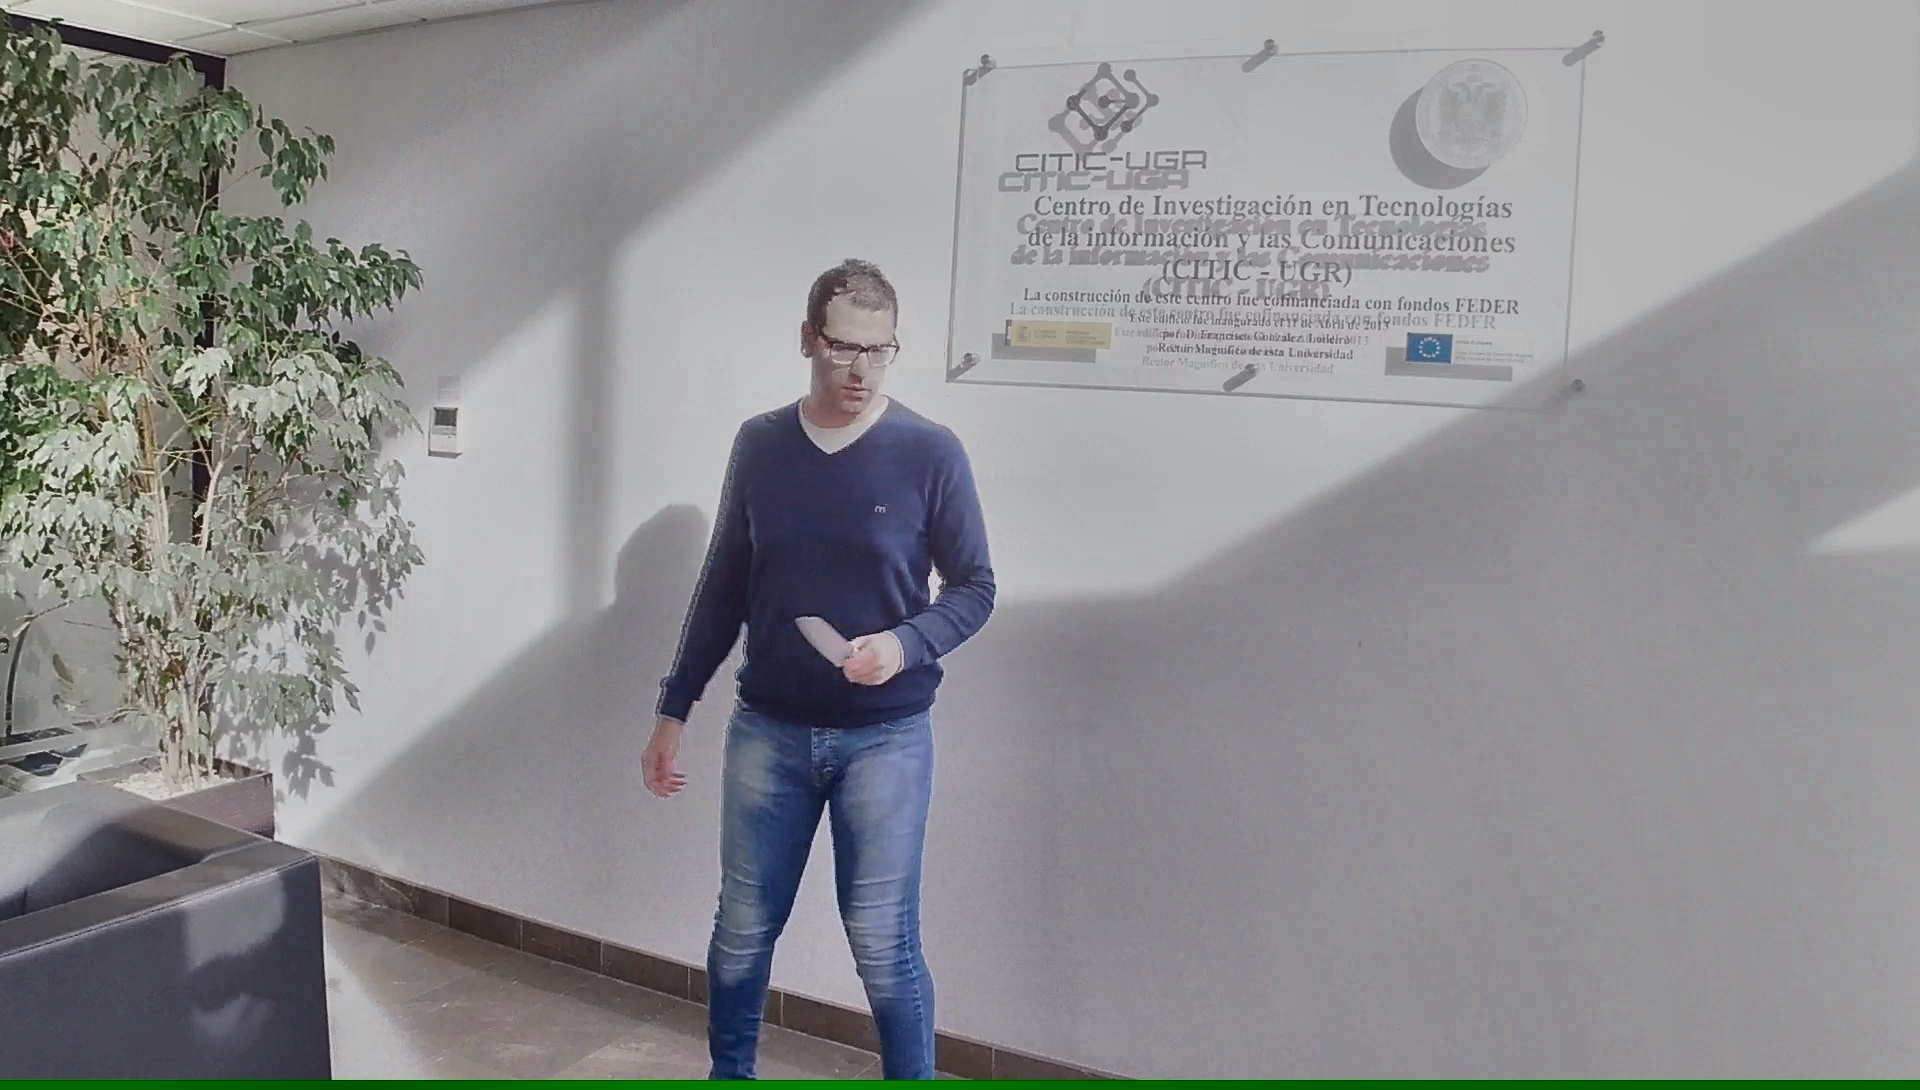knife: (783, 606, 872, 684)
